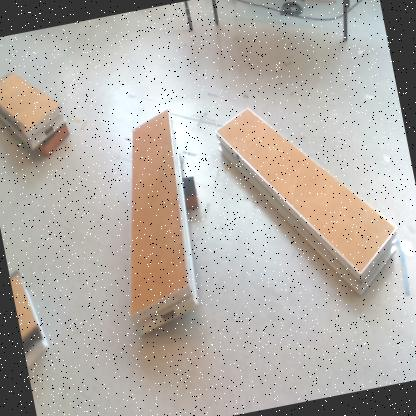Stairs: (216, 109, 398, 299), (132, 110, 199, 334), (1, 72, 67, 151), (11, 270, 50, 371)
